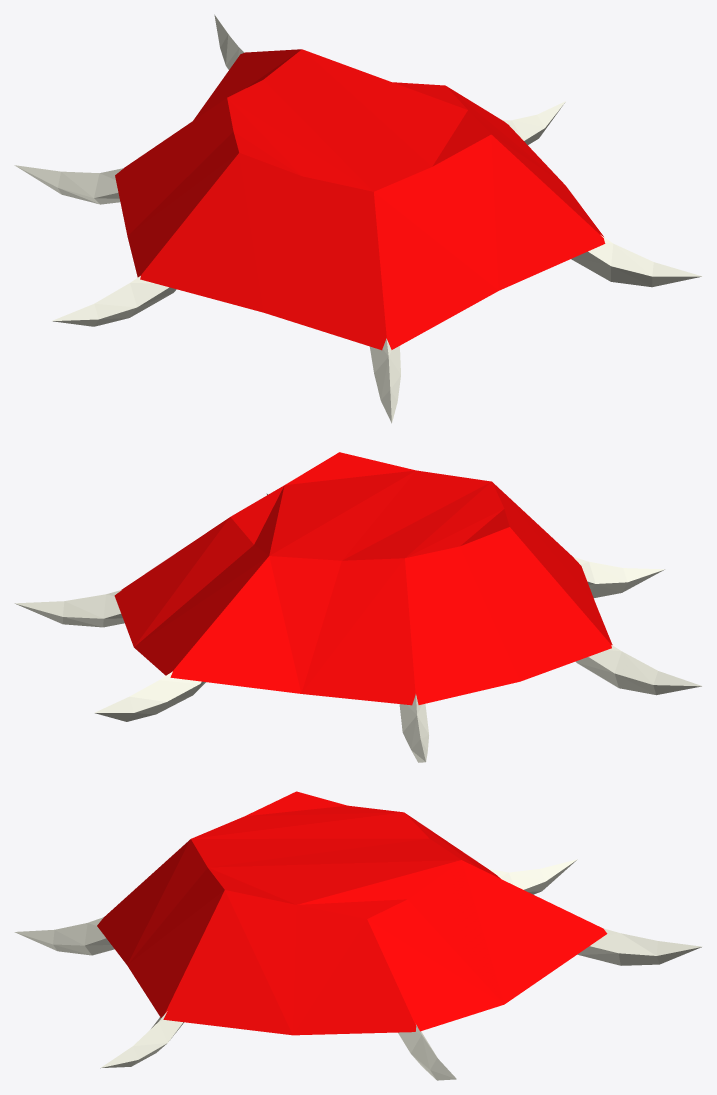
File: Prop_Building_Savage_Tribal_Roof_Cloth_Bone_Flat_01.FBX
3 renders of one model, top to bottom at view 1: azimuth 30°, elevation 25°; view 2: azimuth 150°, elevation 25°; view 3: azimuth 270°, elevation 25°, orthographic. The views are drawn at different scales.
Visible parts, largest first — view 1: Prop_Building_Savage_Tribal_Roof_Cloth_Bone_Flat_01; view 2: Prop_Building_Savage_Tribal_Roof_Cloth_Bone_Flat_01; view 3: Prop_Building_Savage_Tribal_Roof_Cloth_Bone_Flat_01.
Boxes of the visible parts, x1=… form: Prop_Building_Savage_Tribal_Roof_Cloth_Bone_Flat_01: x1=14, y1=14, x2=702, y2=423; Prop_Building_Savage_Tribal_Roof_Cloth_Bone_Flat_01: x1=14, y1=452, x2=702, y2=762; Prop_Building_Savage_Tribal_Roof_Cloth_Bone_Flat_01: x1=14, y1=791, x2=702, y2=1080.
Bounding box in the file's own units: 8593 × 2265 × 9289.
